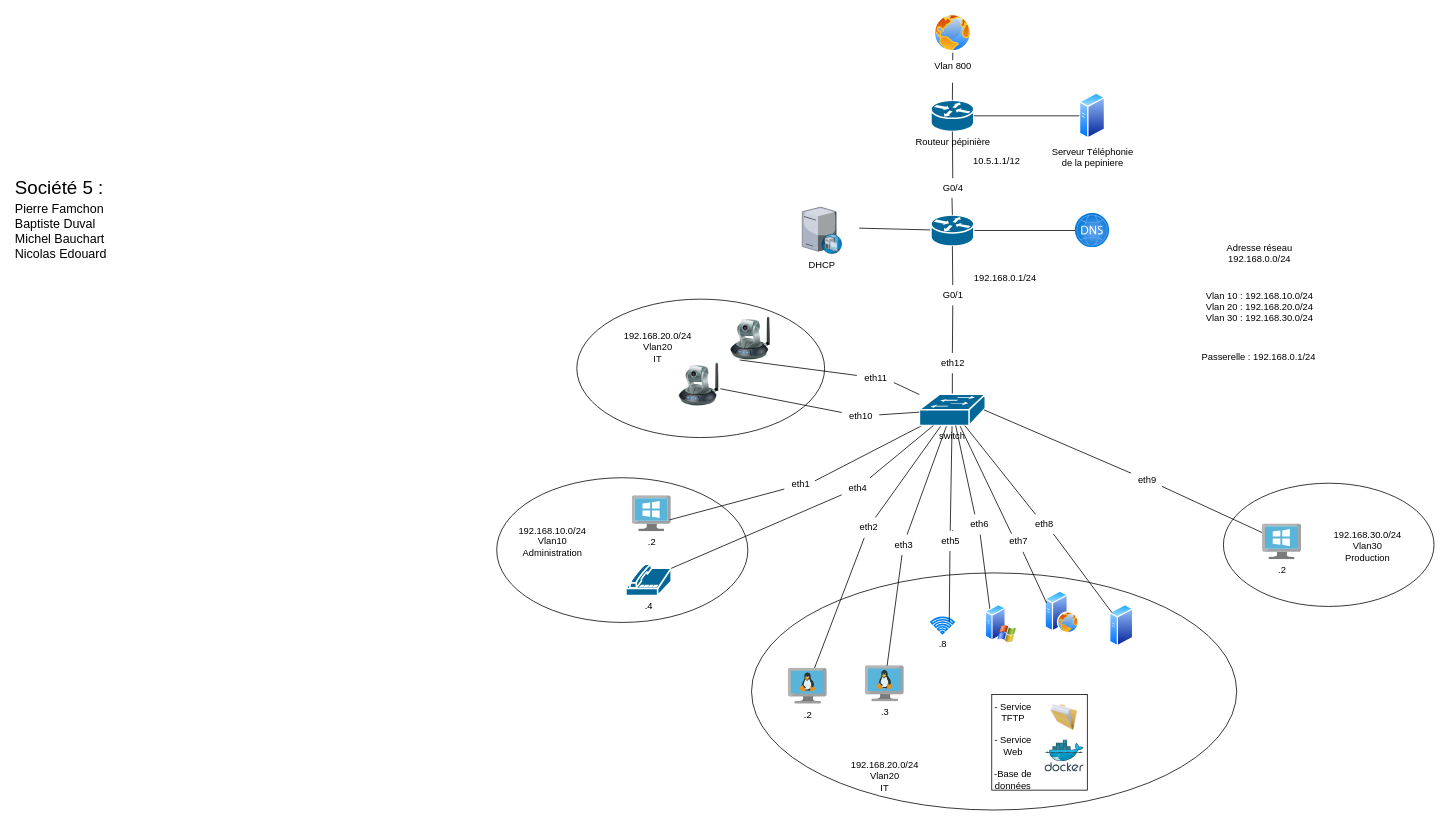
The diagram is 1448 pixels wide and 824 high, and some of its shapes have lost their labels. Here are the shapes that lost their labels. From the top down, the centre of each, then its label:
At point 952,230: "Routeur Société 5 Paris".
At point 750,338: "Caméra entré .10".
At point 698,384: "Camera Parking .9".
At point 1000,623: "Serveur Windows .5".
At point 1062,611: "Serveur Web .6".
At point 1121,625: "Serveur Téléphonie .7".
